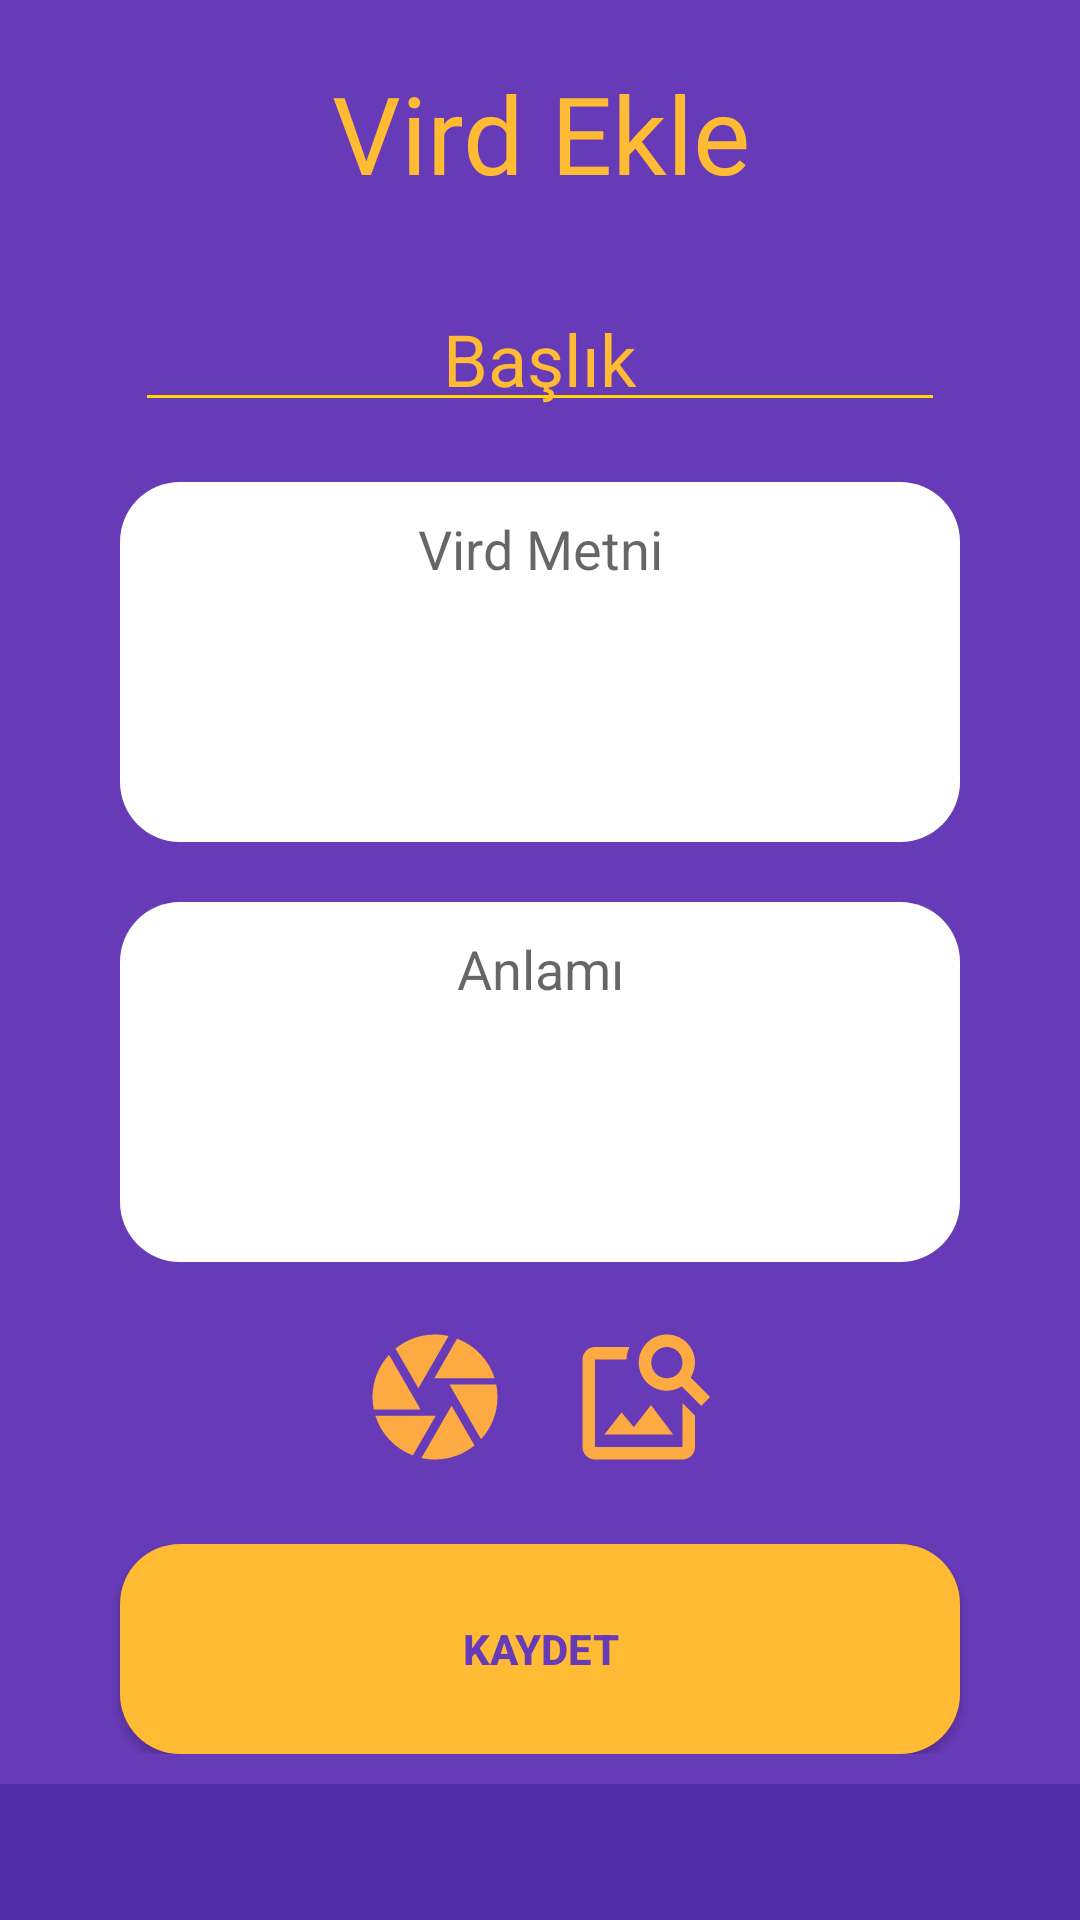

Icon click points for this 1080×1920 phone screenshot, format point (x, y):
camera: point (435, 1397)
search: point (646, 1397)
